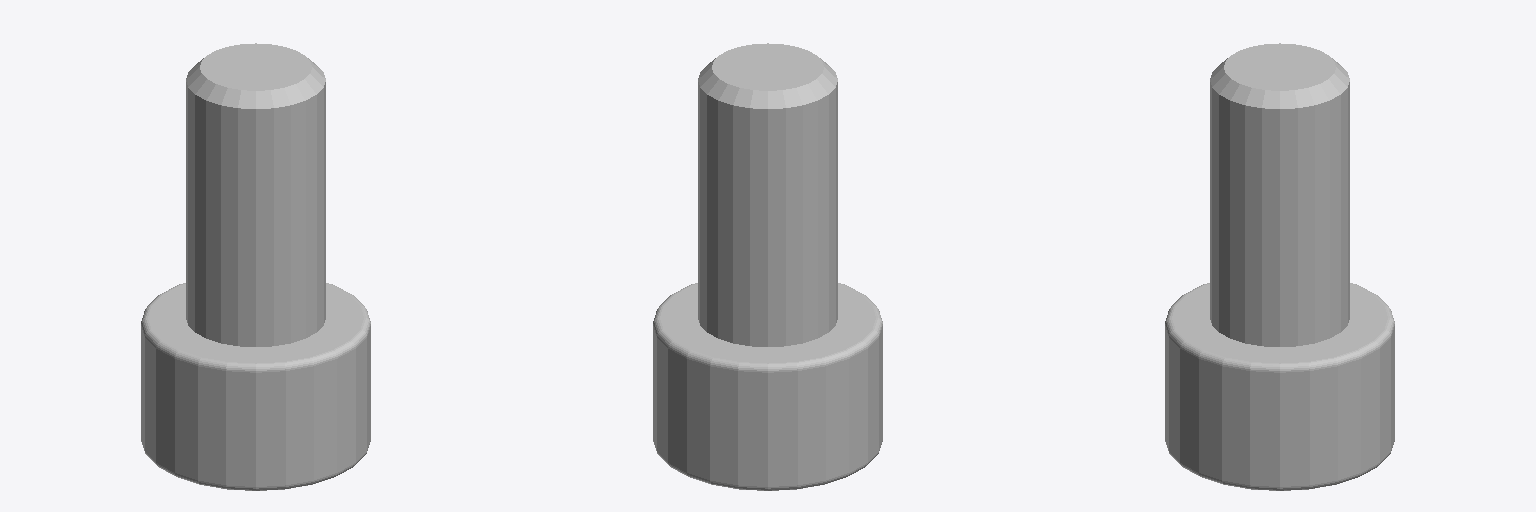
File: _1251A340_Black_Oxide_Alloy_Steel_Socket_Head_Screw_01__1251A340_Black_Oxide_Alloy_Steel_Socket_Head_Screw.obj
3 renders of one model, left to right at view 1: azimuth 30°, elevation 25°; view 2: azimuth 150°, elevation 25°; view 3: azimuth 270°, elevation 25°, orthographic.
Size of the model in its own units: 0.0079 by 0.0144 by 0.0079.